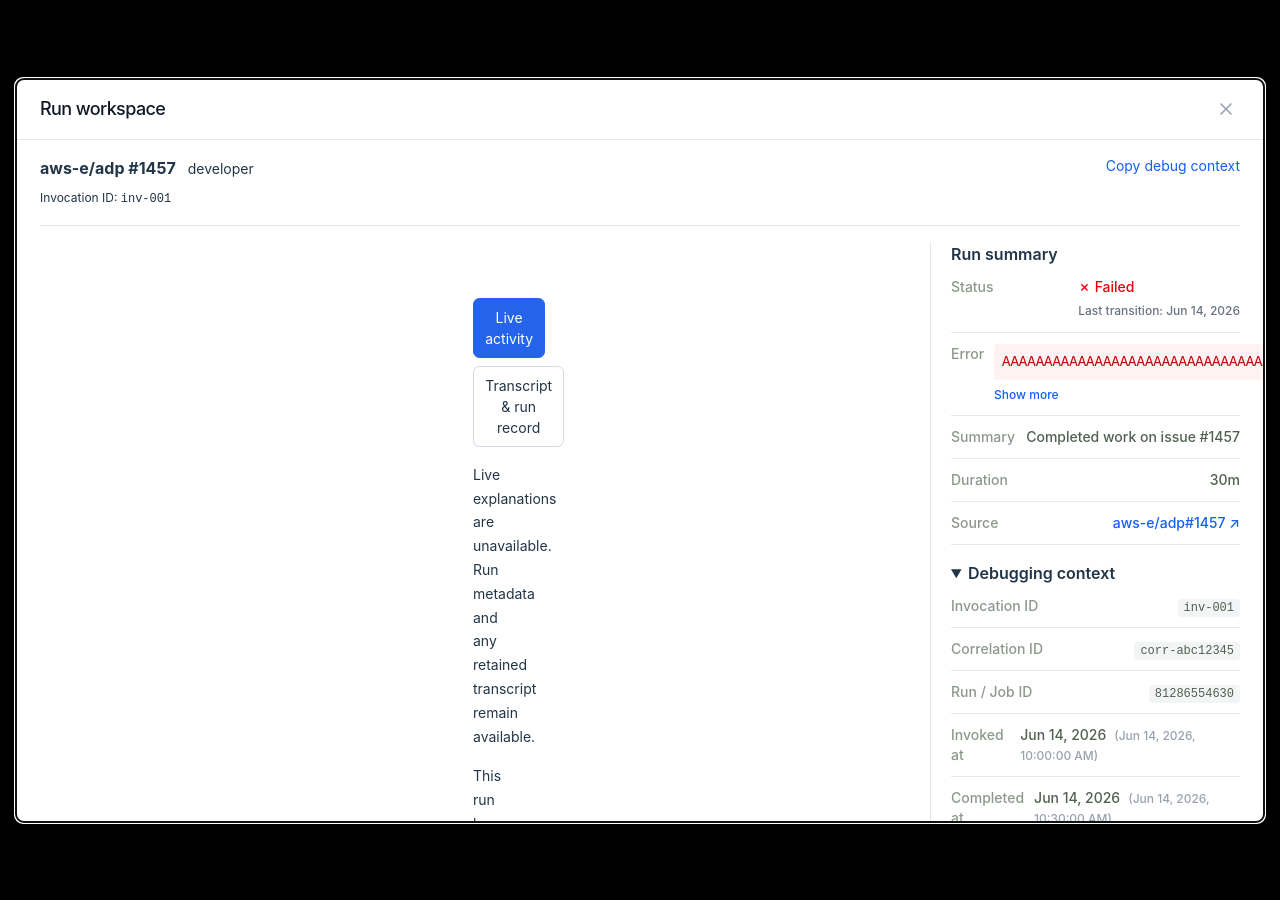
InvocationDetail › truncates long error_message and shows "Show more" button
The image size is (1280, 900).
# Click show more → full text
Click the button "Show more": [1026, 395] box [994,387,1059,403]
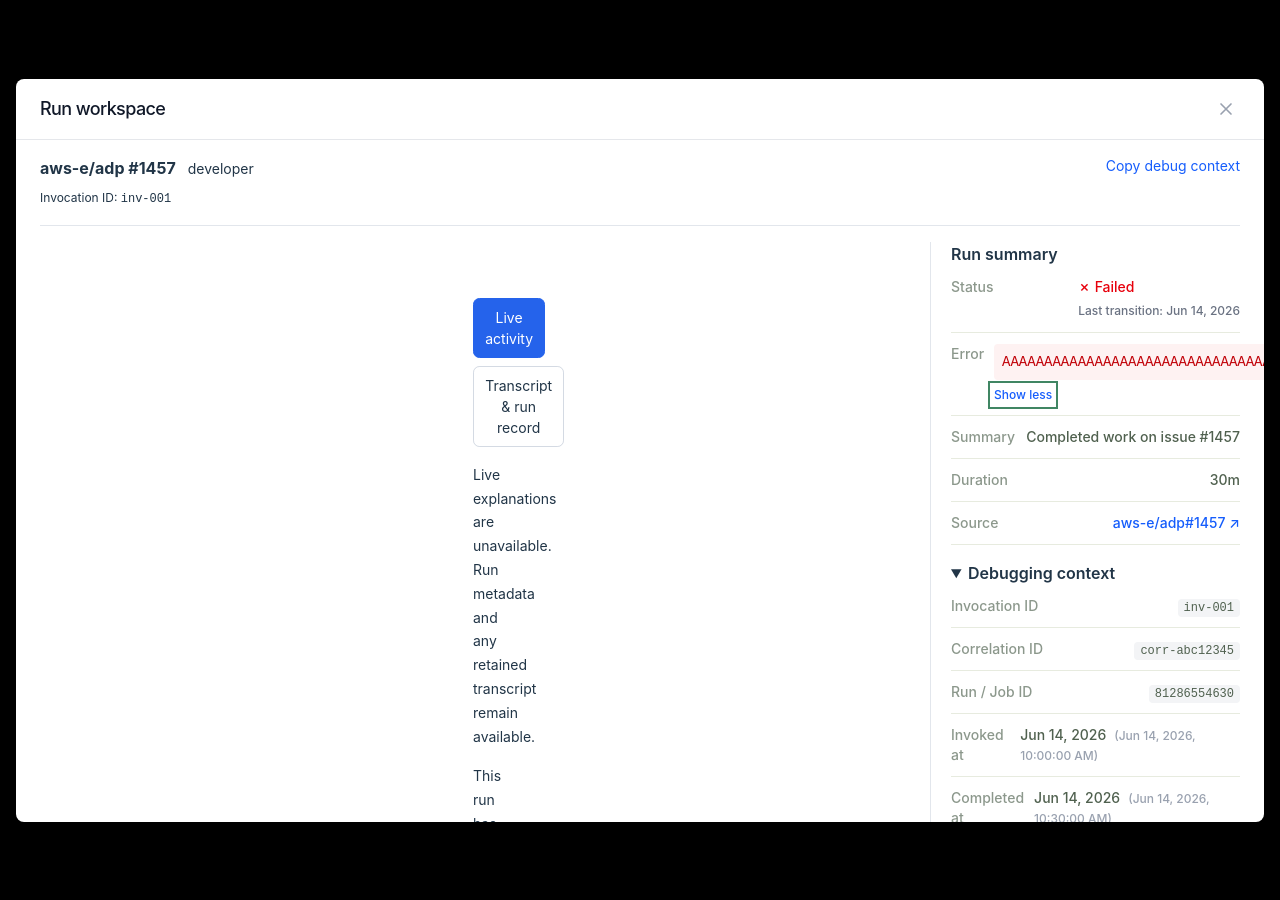
Now the button "Show less" is shown, box [994,387,1052,403]
